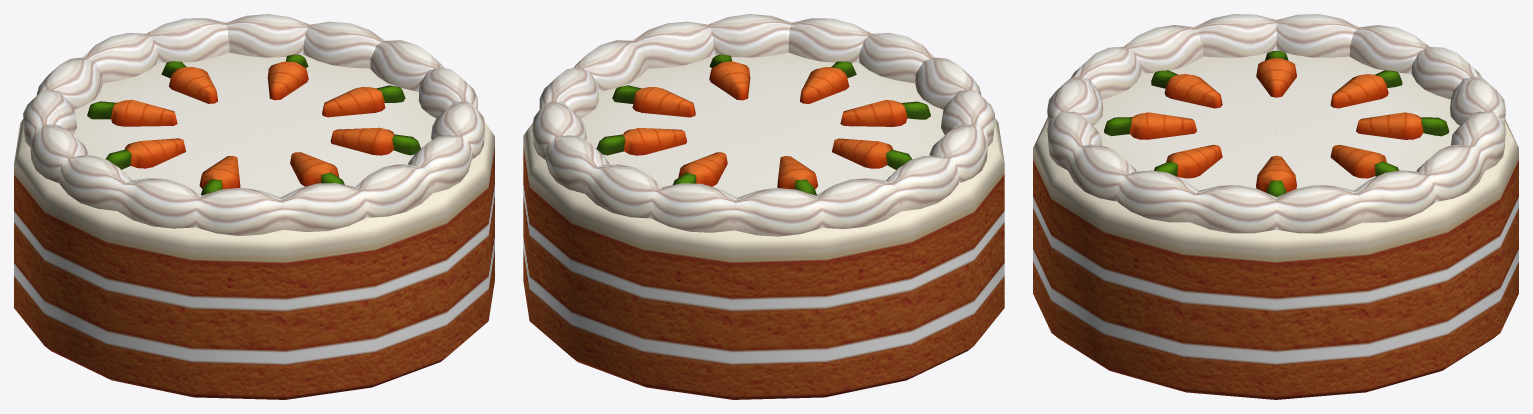
File: 008-Cake02.FBX
The picture shows the model from 3 angles, left to right: view 1: azimuth 30°, elevation 25°; view 2: azimuth 150°, elevation 25°; view 3: azimuth 270°, elevation 25°; orthographic projection.
Parts seen in each view (by area): view 1: 008-Cake02; view 2: 008-Cake02; view 3: 008-Cake02.
Part boxes in pixels (x1=…): 008-Cake02: x1=14, y1=14, x2=494, y2=399; 008-Cake02: x1=523, y1=14, x2=1004, y2=399; 008-Cake02: x1=1033, y1=14, x2=1518, y2=399.
Bounding box in the file's own units: 32.57 × 14.53 × 32.57.
